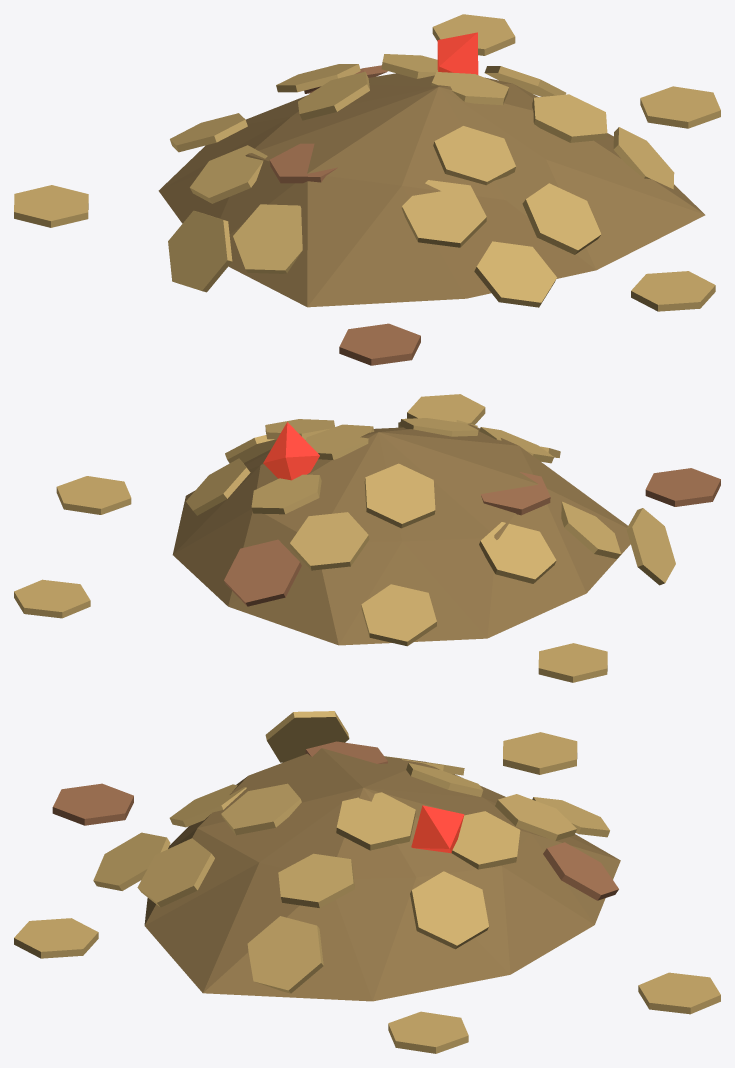
Rendered from gold-pile.glb.
3 renders of one model, top to bottom at view 1: azimuth 30°, elevation 25°; view 2: azimuth 150°, elevation 25°; view 3: azimuth 270°, elevation 25°, orthographic. The views are drawn at different scales.
Visible parts, largest first — view 1: coin_mound, coin_heap_07, coin_heap_12, coin_leaning, coin_heap_15, coin_heap_10, coin_heap_02, coin_heap_05, coin_floor_02, coin_floor_03, coin_floor_00, coin_heap_09 (+11 smaller); view 2: coin_mound, coin_heap_11, coin_heap_01, coin_heap_14, coin_heap_06, coin_heap_09, coin_leaning, coin_floor_04, coin_floor_00, coin_floor_03, coin_floor_01, coin_heap_03 (+10 smaller); view 3: coin_mound, coin_heap_08, coin_heap_13, coin_heap_00, coin_heap_05, coin_heap_10, coin_heap_03, coin_leaning, coin_heap_02, coin_floor_02, coin_floor_04, coin_floor_03 (+10 smaller).
Boxes of the visible parts, box(x1,y1,x2,y2) form: coin_mound: box(158, 73, 705, 307); coin_heap_07: box(401, 180, 486, 247); coin_heap_12: box(233, 204, 302, 273); coin_leaning: box(168, 210, 232, 292); coin_heap_15: box(474, 241, 556, 307); coin_heap_10: box(522, 183, 601, 254); coin_heap_02: box(433, 126, 515, 185); coin_heap_05: box(532, 94, 607, 142); coin_floor_02: box(631, 271, 715, 311); coin_floor_03: box(339, 323, 420, 365); coin_floor_00: box(640, 86, 720, 128); coin_heap_09: box(190, 145, 267, 203); coin_mound: box(172, 424, 630, 645); coin_heap_11: box(224, 539, 301, 606); coin_heap_01: box(364, 463, 435, 528); coin_heap_14: box(361, 584, 436, 646); coin_heap_06: box(290, 512, 369, 570); coin_heap_09: box(479, 522, 556, 583); coin_leaning: box(626, 508, 675, 585); coin_floor_04: box(14, 579, 90, 618); coin_floor_00: box(56, 476, 131, 514); coin_floor_03: box(645, 468, 720, 506); coin_floor_01: box(538, 643, 607, 682); coin_heap_03: box(251, 474, 321, 514); coin_mound: box(144, 748, 620, 1001); coin_heap_08: box(410, 871, 488, 949); coin_heap_13: box(247, 916, 323, 993); coin_heap_00: box(336, 792, 415, 850); coin_heap_05: box(278, 853, 354, 908); coin_heap_10: box(137, 838, 214, 907); coin_heap_03: box(451, 811, 520, 869); coin_leaning: box(265, 711, 349, 762); coin_heap_02: box(221, 783, 301, 835); coin_floor_02: box(14, 918, 98, 958); coin_floor_04: box(638, 972, 720, 1014); coin_floor_03: box(52, 783, 133, 825).
Size of what is drawn, in the model's own units: 0.4006 by 0.0775 by 0.3799.
